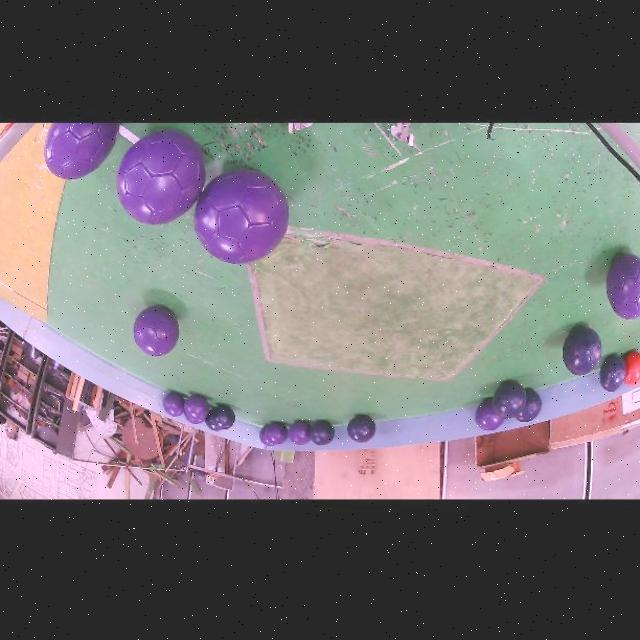B: (563, 326, 602, 376), (492, 381, 526, 419), (599, 356, 627, 393), (516, 389, 542, 423), (347, 415, 376, 444), (309, 422, 335, 447), (215, 406, 236, 430), (204, 409, 221, 432)
P: (194, 170, 288, 265), (117, 132, 206, 226), (45, 124, 119, 180), (134, 307, 180, 357), (606, 255, 640, 321), (475, 398, 504, 431), (184, 396, 210, 422), (163, 393, 185, 418), (265, 423, 288, 445), (288, 422, 310, 445), (259, 428, 275, 448), (185, 416, 203, 426)
R: (624, 353, 640, 387)
